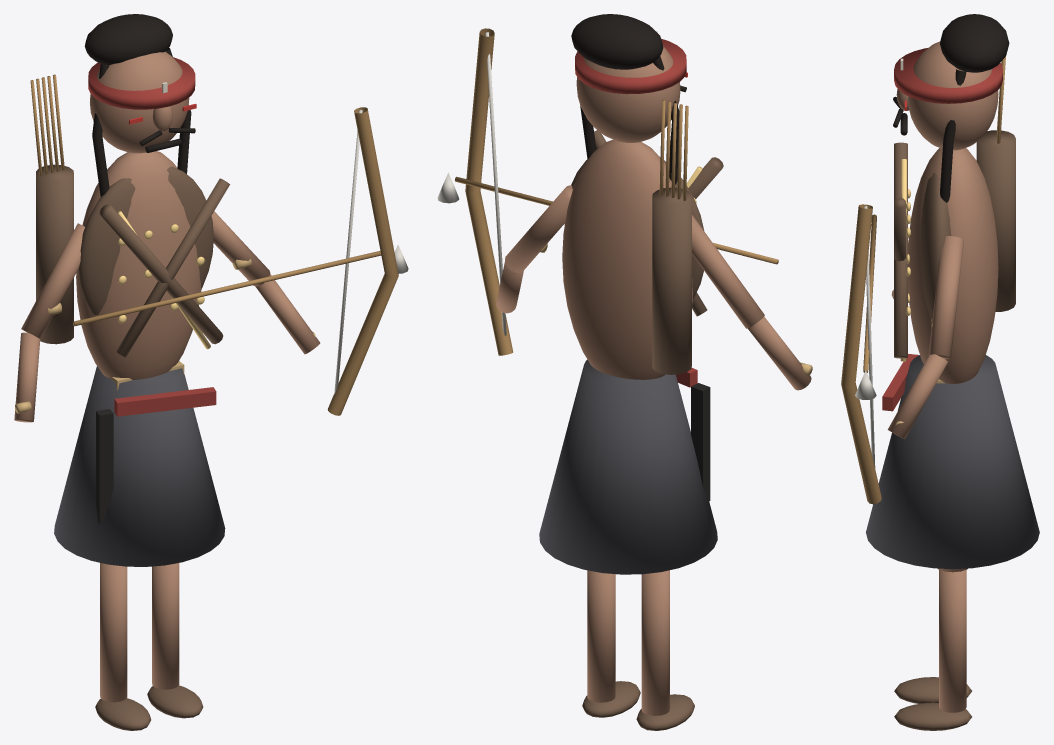
Rendered from kaurava-foot-archer.glb.
3 renders of one model, left to right at view 1: azimuth 30°, elevation 25°; view 2: azimuth 150°, elevation 25°; view 3: azimuth 270°, elevation 25°, orthographic. The views are drawn at different scales.
Visible parts, largest first — view 1: layered dhoti cloth, torso muscle shape, chest leather armor, head, quiver, curved long bow, shin, shin.001, hair bun, front leather harness one, headband, left upper arm (+11 smaller); view 2: layered dhoti cloth, torso muscle shape, quiver, head, curved long bow, shin, hair bun, shin.001, left upper arm, headband, right upper arm, side shoulder-color cloth drape (+8 smaller); view 3: layered dhoti cloth, torso muscle shape, head, curved long bow, quiver, shin.001, hair bun, right upper arm, chest leather armor, headband, front leather harness one, right forearm (+8 smaller).
Boxes of the visible parts, x1=… form: layered dhoti cloth: x1=54, y1=366, x2=225, y2=566; torso muscle shape: x1=76, y1=151, x2=201, y2=379; chest leather armor: x1=78, y1=166, x2=213, y2=314; head: x1=90, y1=51, x2=189, y2=153; quiver: x1=36, y1=164, x2=73, y2=344; curved long bow: x1=327, y1=107, x2=398, y2=415; shin: x1=100, y1=563, x2=127, y2=702; shin.001: x1=152, y1=563, x2=179, y2=689; hair bun: x1=84, y1=14, x2=172, y2=65; front leather harness one: x1=99, y1=204, x2=223, y2=344; headband: x1=88, y1=57, x2=195, y2=109; left upper arm: x1=21, y1=223, x2=84, y2=338; layered dhoti cloth: x1=539, y1=359, x2=717, y2=574; torso muscle shape: x1=562, y1=139, x2=692, y2=379; quiver: x1=652, y1=187, x2=691, y2=374; head: x1=576, y1=46, x2=680, y2=142; curved long bow: x1=465, y1=28, x2=513, y2=355; shin: x1=641, y1=570, x2=669, y2=715; hair bun: x1=571, y1=14, x2=663, y2=69; shin.001: x1=587, y1=570, x2=615, y2=702; left upper arm: x1=692, y1=215, x2=764, y2=328; headband: x1=575, y1=39, x2=686, y2=94; right upper arm: x1=505, y1=185, x2=572, y2=272; side shoulder-color cloth drape: x1=691, y1=383, x2=710, y2=501; layered dhoti cloth: x1=866, y1=355, x2=1039, y2=569; torso muscle shape: x1=907, y1=148, x2=998, y2=383; head: x1=908, y1=41, x2=998, y2=150; curved long bow: x1=841, y1=204, x2=881, y2=504; quiver: x1=976, y1=130, x2=1015, y2=311; shin.001: x1=939, y1=570, x2=966, y2=712; hair bun: x1=940, y1=14, x2=1009, y2=72; right upper arm: x1=928, y1=236, x2=963, y2=359; chest leather armor: x1=920, y1=173, x2=951, y2=318; headband: x1=894, y1=48, x2=1002, y2=103; front leather harness one: x1=894, y1=142, x2=907, y2=358; right forearm: x1=887, y1=354, x2=948, y2=439.
Bounding box in the file's own units: 1.01 × 1.76 × 0.4567.
